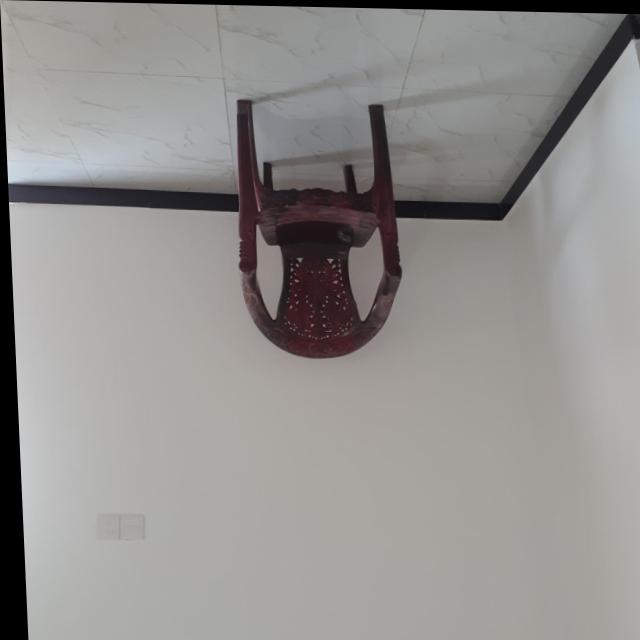Chair: (230, 96, 404, 360)
